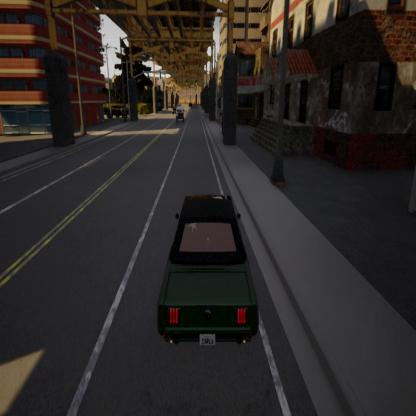Cars: (153, 164, 269, 370), (174, 102, 185, 132)
